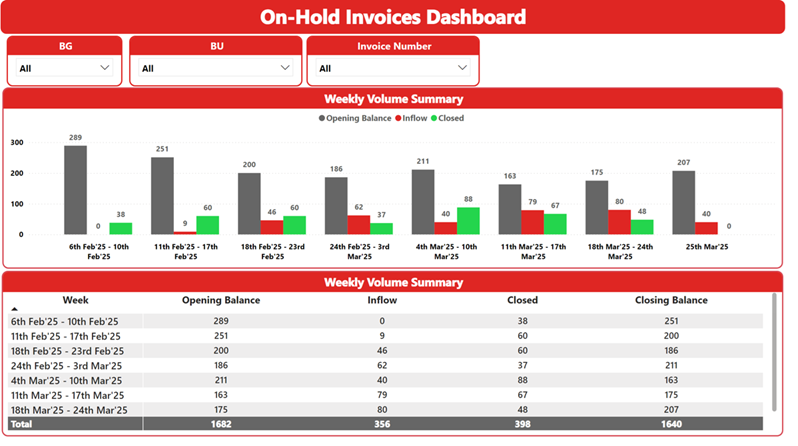

Layout of this report page (visuals, bound fields, positions):
{"tool":"powerbi","page":{"name":"Weekly Volumes","canvas":[1280,720],"ordinal":1},"visuals":[{"type":"textbox","title":"IFFCO On-Hold Invoices Dashboard","box":[3.2,0,1274.3,55.1],"z":0},{"type":"slicer","title":"BG","fields":{"Values":["Consolidated_Raw Data.PO.Org Name"]},"box":[13,58.3,187.8,82.6],"z":1000},{"type":"pivotTable","title":"Weekly Volume Summary","fields":{"Rows":["Consolidated_Raw Data.PO_New"],"Values":["CountNonNull(Consolidated_Raw Data.Period)","Consolidated_Raw Data.Inflow Count","Consolidated_Raw Data.Closed Count","Consolidated_Raw Data.Closing Balance"]},"box":[4.9,440.4,1269.5,268.8],"z":2000},{"type":"clusteredColumnChart","title":"Weekly Volume Summary","fields":{"Category":["Consolidated_Raw Data.PO_New"],"Y":["CountNonNull(Consolidated_Raw Data.Period)","Consolidated_Raw Data.Inflow Count","Consolidated_Raw Data.Closed Count"]},"box":[6.5,142.5,1267.9,294.7],"z":3000},{"type":"slicer","title":"BU","fields":{"Values":["Consolidated_Raw Data.BU"]},"box":[212.1,58.3,281.7,82.6],"z":4000},{"type":"slicer","title":"Invoice Number","fields":{"Values":["Consolidated_Raw Data.Invoice Number"]},"box":[500.3,58.3,281.7,82.6],"z":5000}]}

Visuals, with their boxes in screenshot pixels (x1, y1, x2, y2), scaled from the page's 1280x720 canvas onto the 798x446 screenshot:
"IFFCO On-Hold Invoices Dashboard" textbox: bbox(2, 0, 796, 34)
"BG" slicer: bbox(8, 36, 125, 87)
"Weekly Volume Summary" pivotTable: bbox(3, 273, 795, 439)
"Weekly Volume Summary" clusteredColumnChart: bbox(4, 88, 795, 271)
"BU" slicer: bbox(132, 36, 308, 87)
"Invoice Number" slicer: bbox(312, 36, 488, 87)
